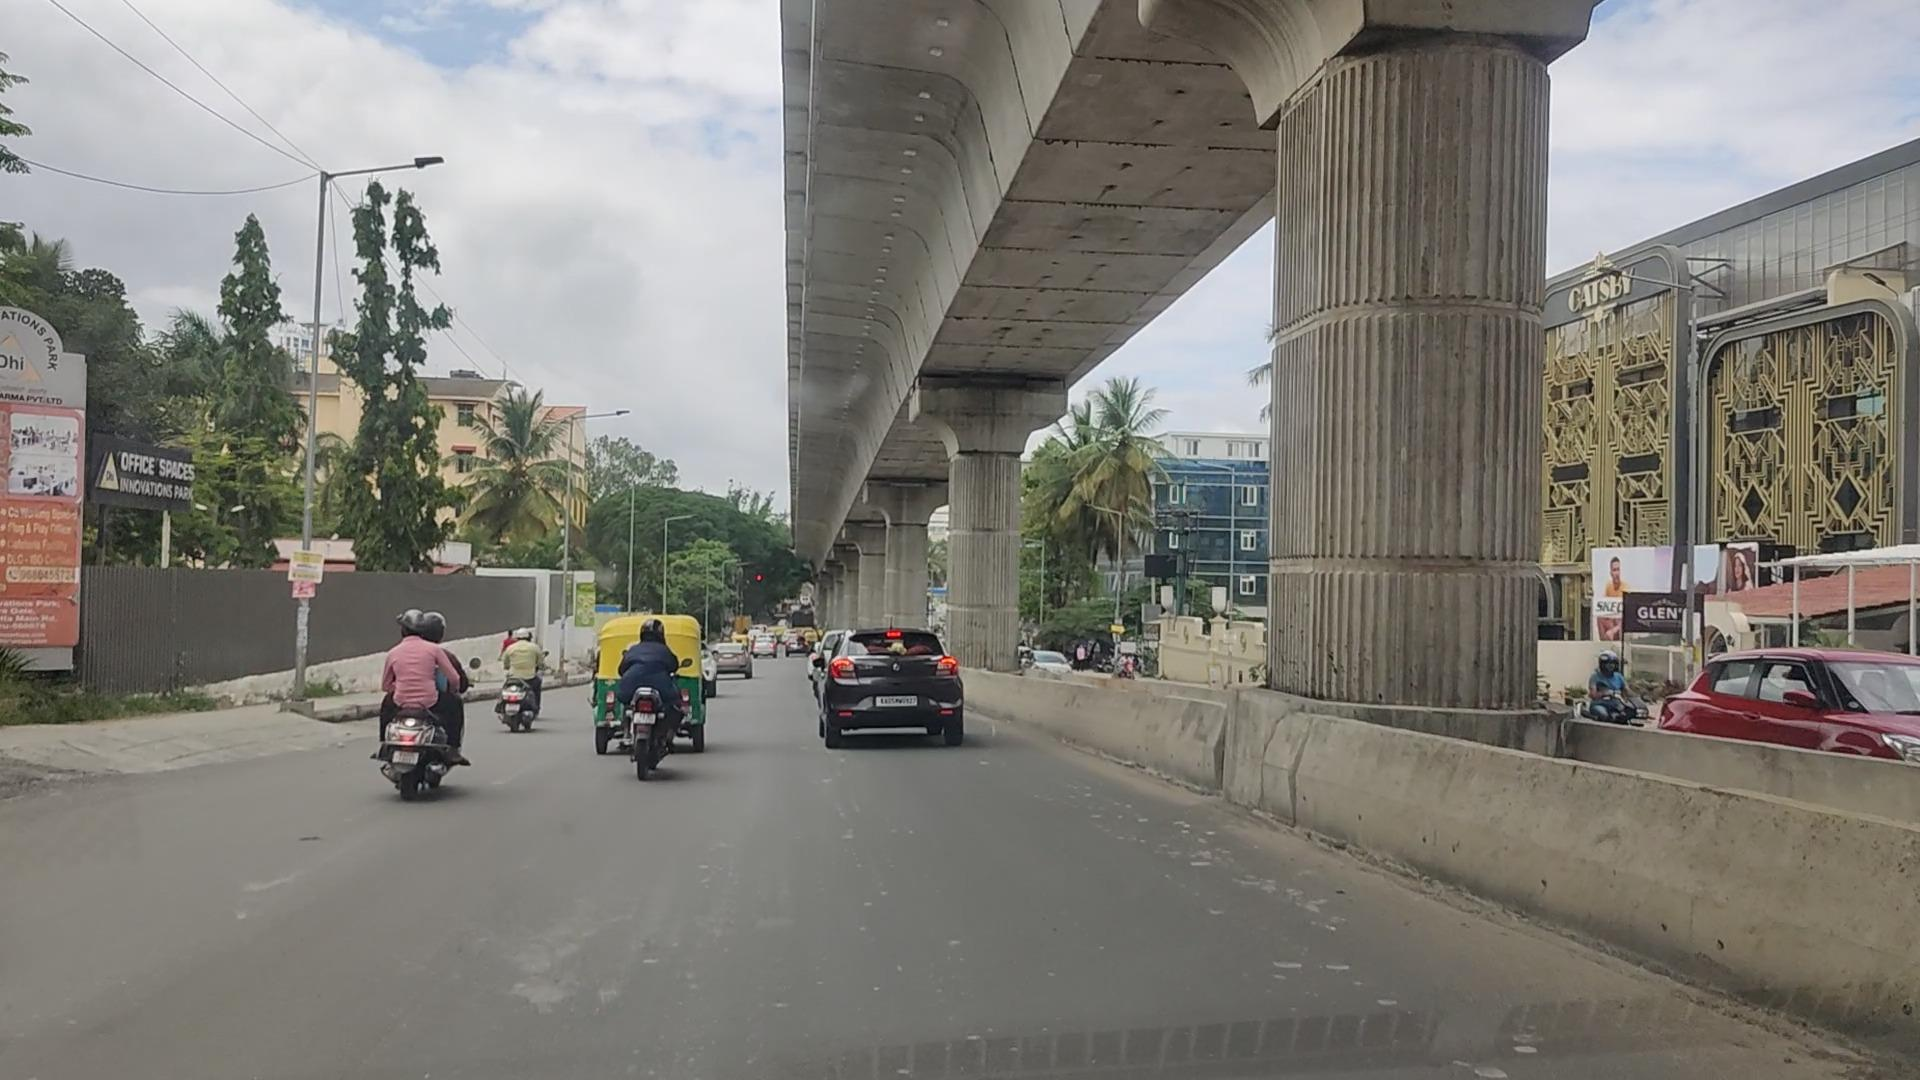LMV: (815, 620, 964, 756), (382, 596, 465, 815), (620, 615, 671, 764)
